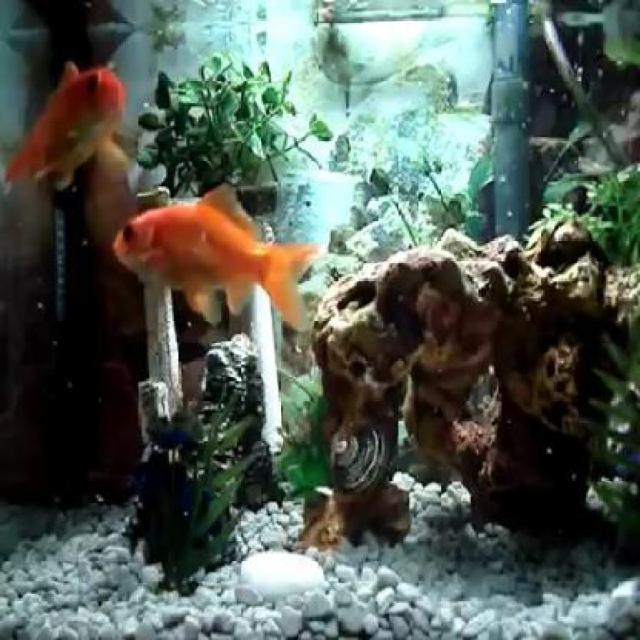GoldFish: (111, 183, 320, 334), (4, 46, 138, 191)
